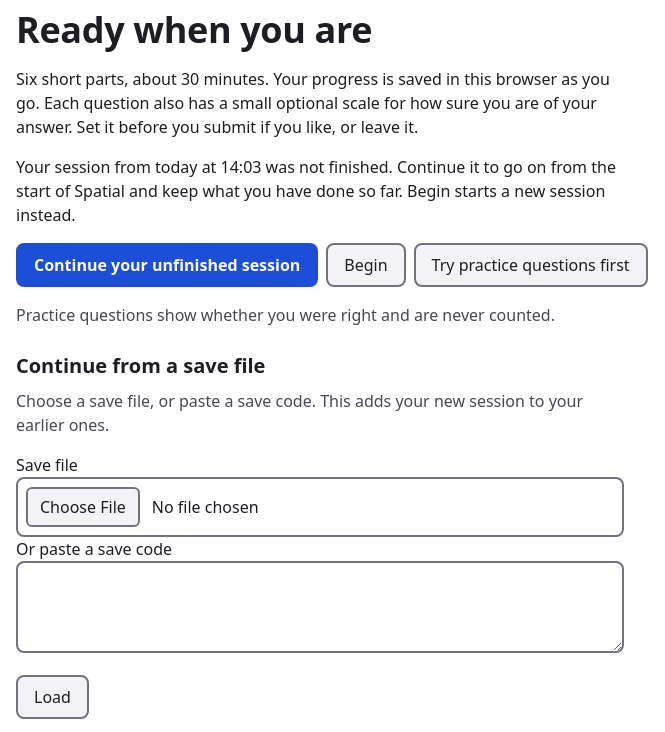
Test: Ready: the offer to continue an unfinished session (UX-064; provisional default, D6 option B) › like Begin, it waits while a pasted code is not loaded
Step 1. Type "something pasted" into the text box labelled "Or paste a save code" → {"x": 320, "y": 607}, box [16, 561, 624, 653]
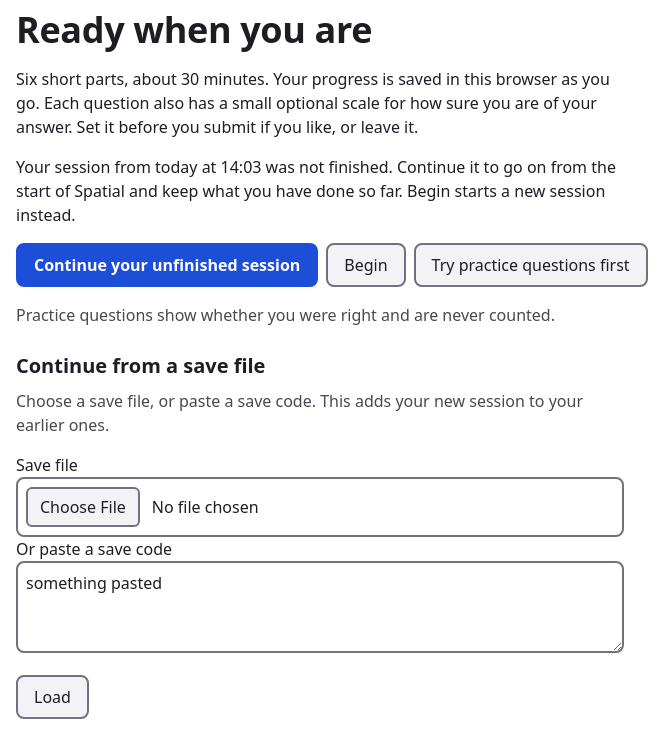
Step 2. Click the button "Continue your unfinished session" → {"x": 167, "y": 265}, box [16, 243, 318, 287]
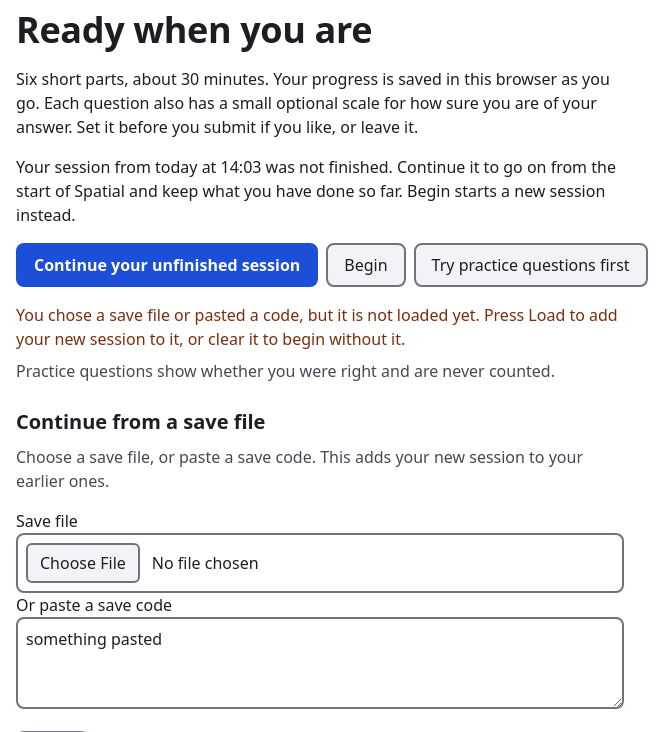
Expected: the message shows "You chose a save file or pasted a code, but it is not loaded yet. Press Load to add your new session to it, or clear it to begin without it.", [16, 304, 618, 350]
